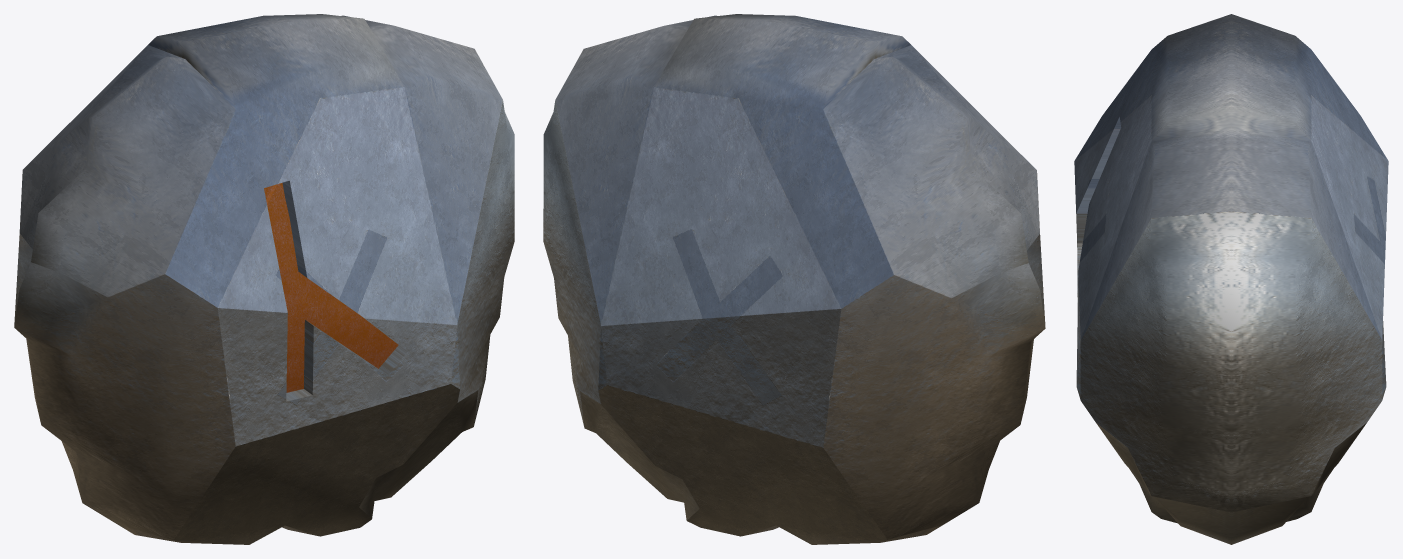
Rendered from Slam_Thor.fbx.
3 renders of one model, left to right at view 1: azimuth 30°, elevation 25°; view 2: azimuth 150°, elevation 25°; view 3: azimuth 270°, elevation 25°, orthographic. The views are drawn at different scales.
Parts seen in each view (by area): view 1: Q_Tyr's Courage; view 2: Q_Tyr's Courage; view 3: Q_Tyr's Courage.
Part boxes in pixels (x1,y1,x2,y2): Q_Tyr's Courage: (14,14,514,544); Q_Tyr's Courage: (543,14,1045,544); Q_Tyr's Courage: (1074,14,1388,544).
Size of the model in its own units: 60.15 by 60.84 by 37.36.
Materials: 1 (1 with a texture image).
